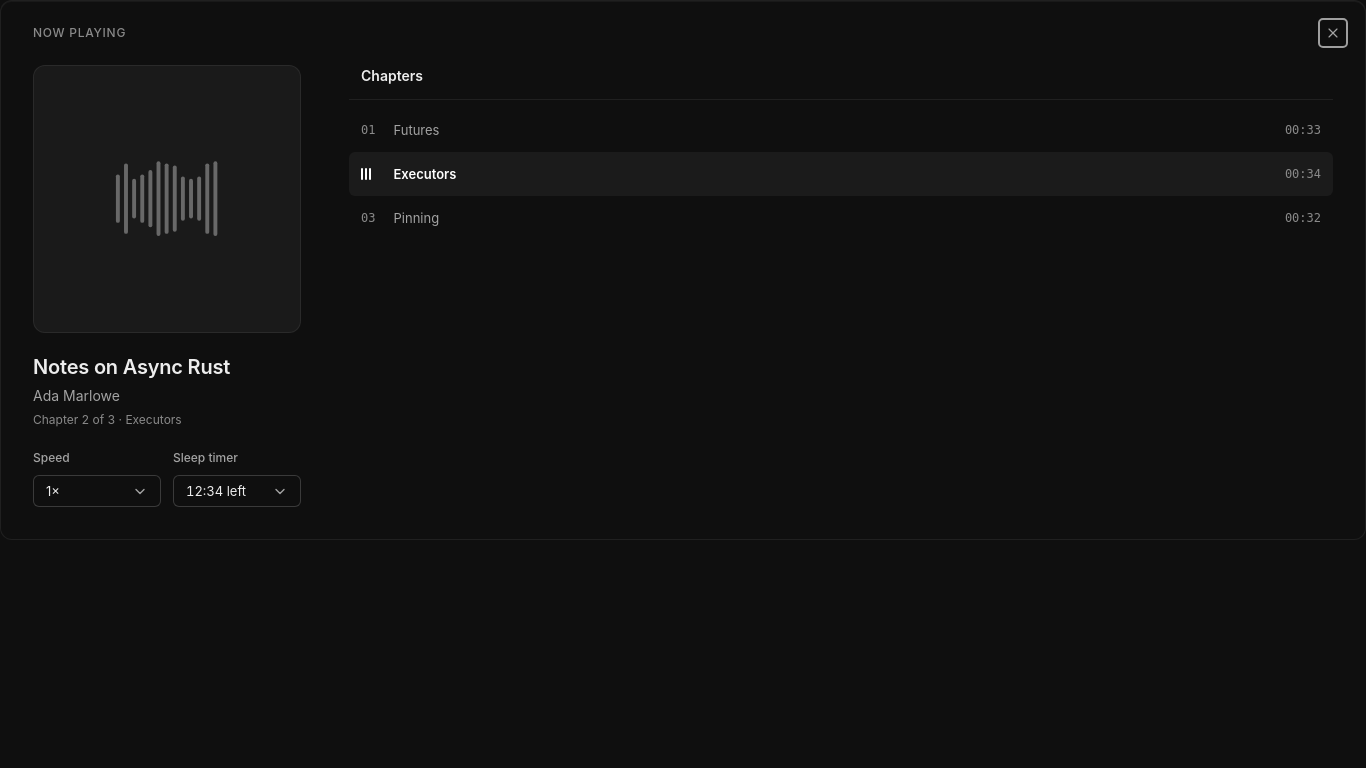
shows the sleep countdown once and announces only the choice
The width and height of the screenshot is (1366, 768).
Expected: the element with class "np-control" reads "Sleep timer 12:34 left", [173,449,301,507]
Click the dropdown named "Sleep timer" at [237, 491], box [173,475,301,507]
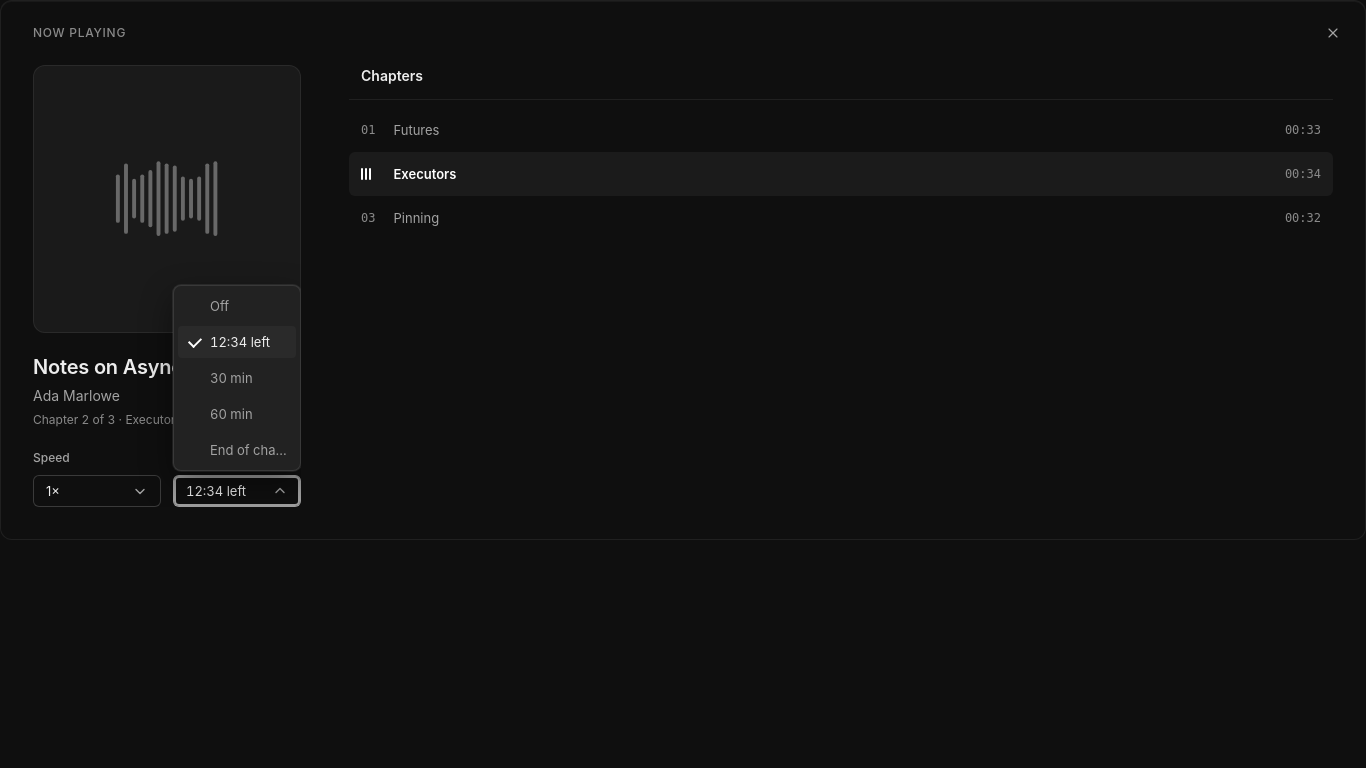
Now the option "12:34 left" is shown, box [178,326,296,358]
